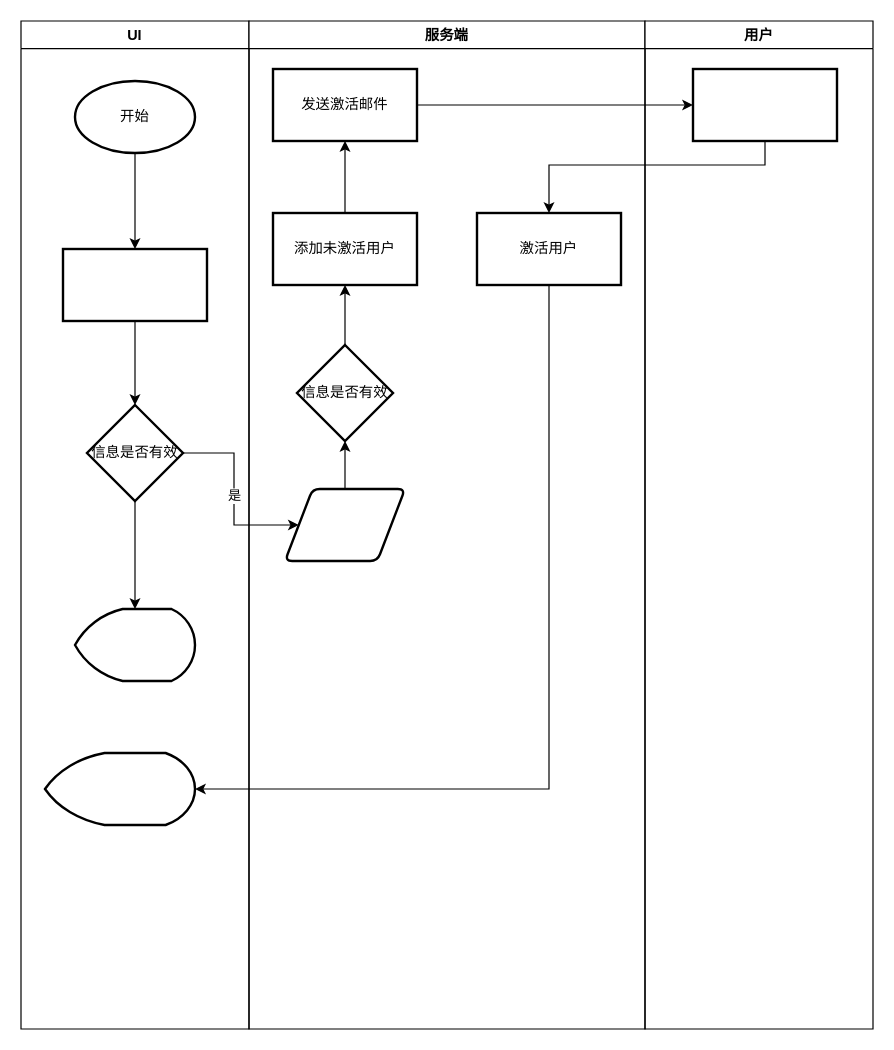
Some shapes in this 894 by 1050 pixel diagram are drawn without their labels. Each missing label, with the centre of its shape:
接受数据: the point at 344,524
显示错误信息: the point at 134,644
点击激活邮件: the point at 764,104
跳转到激活结果页面: the point at 119,788
输入用户基本信息: the point at 134,284
